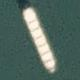ship: (15, 0, 64, 75)
